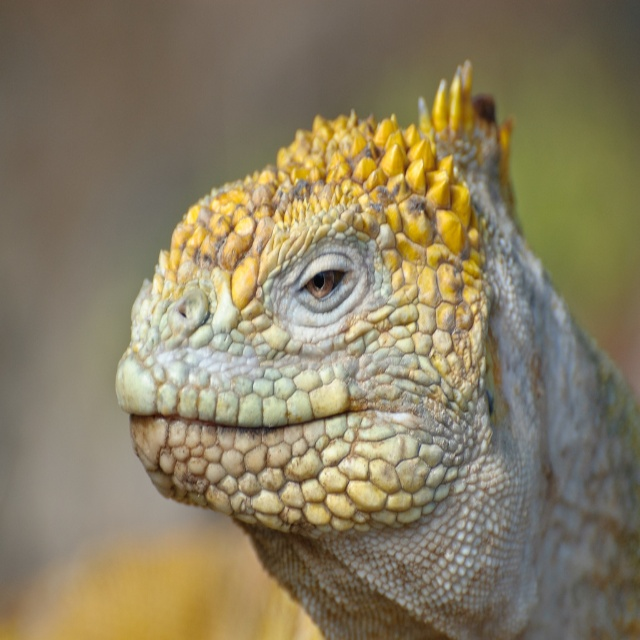Lizard: (112, 53, 640, 638)
